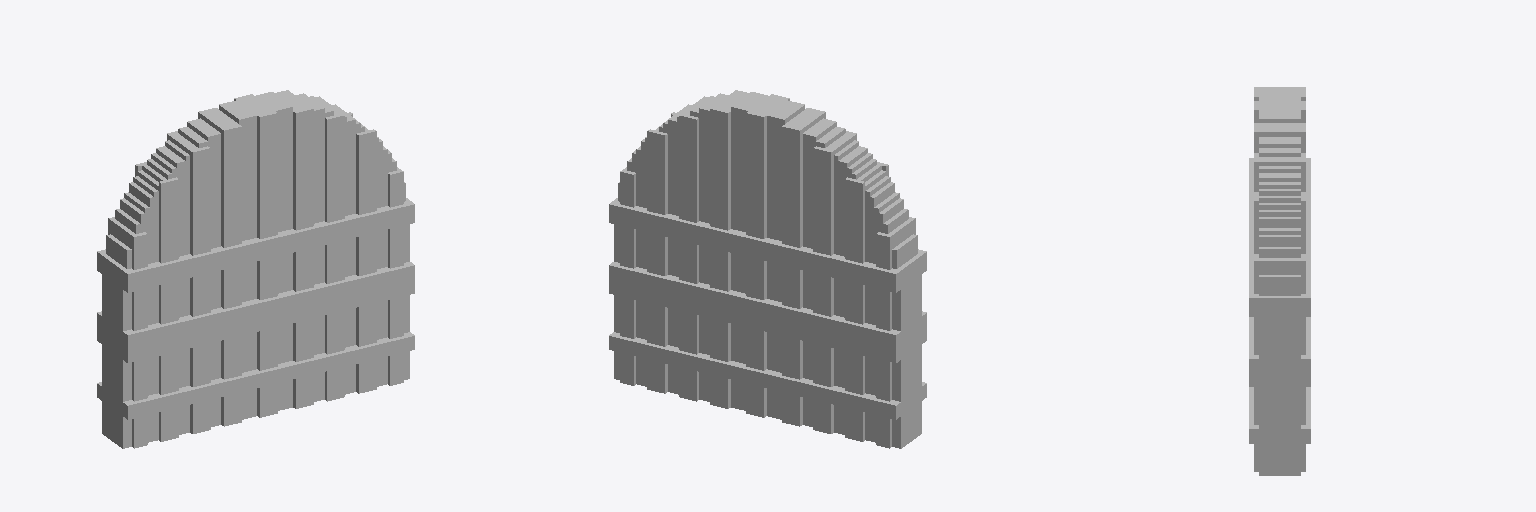
File: door.obj
The picture shows the model from 3 angles: view 1: azimuth 30°, elevation 25°; view 2: azimuth 150°, elevation 25°; view 3: azimuth 270°, elevation 25°; orthographic projection.
Parts seen in each view (by area): view 1: door; view 2: door; view 3: door.
Part boxes in pixels (x1,y1,x2,y2): door: (97,90,414,448); door: (609,90,926,448); door: (1249,87,1310,475).
Size of the model in its own units: 64 by 64 by 12.